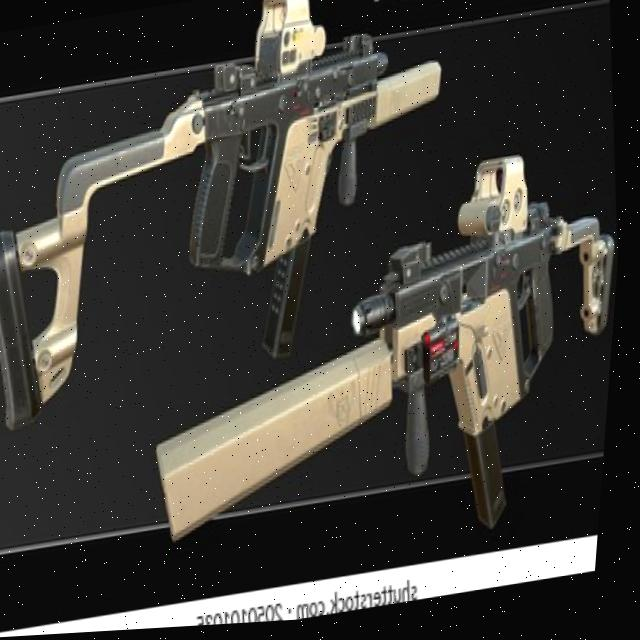firearm: (130, 148, 630, 584), (0, 0, 477, 434)
